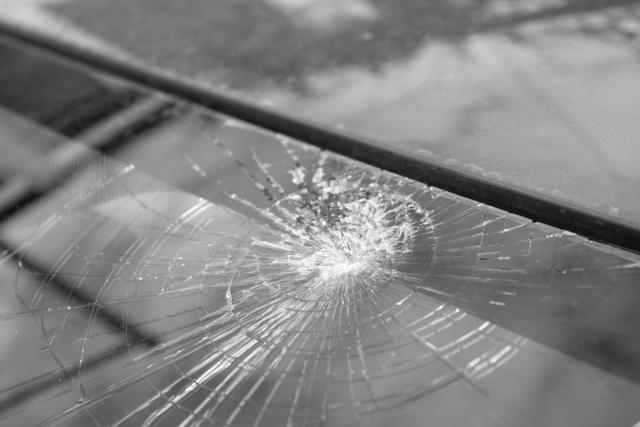Windshield: (27, 134, 560, 425)
